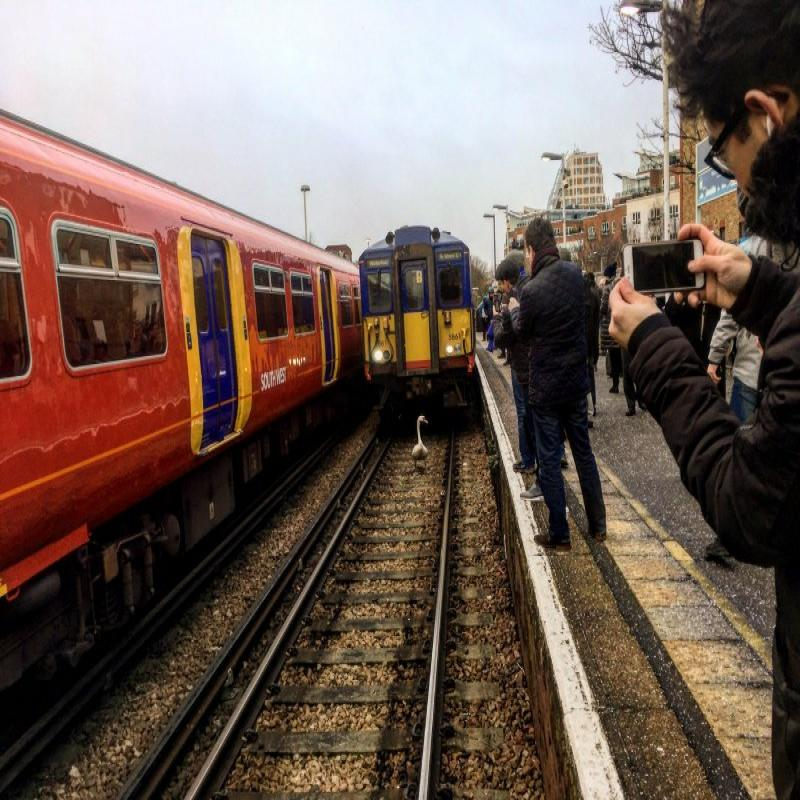train: (8, 113, 348, 499), (357, 218, 473, 406)
